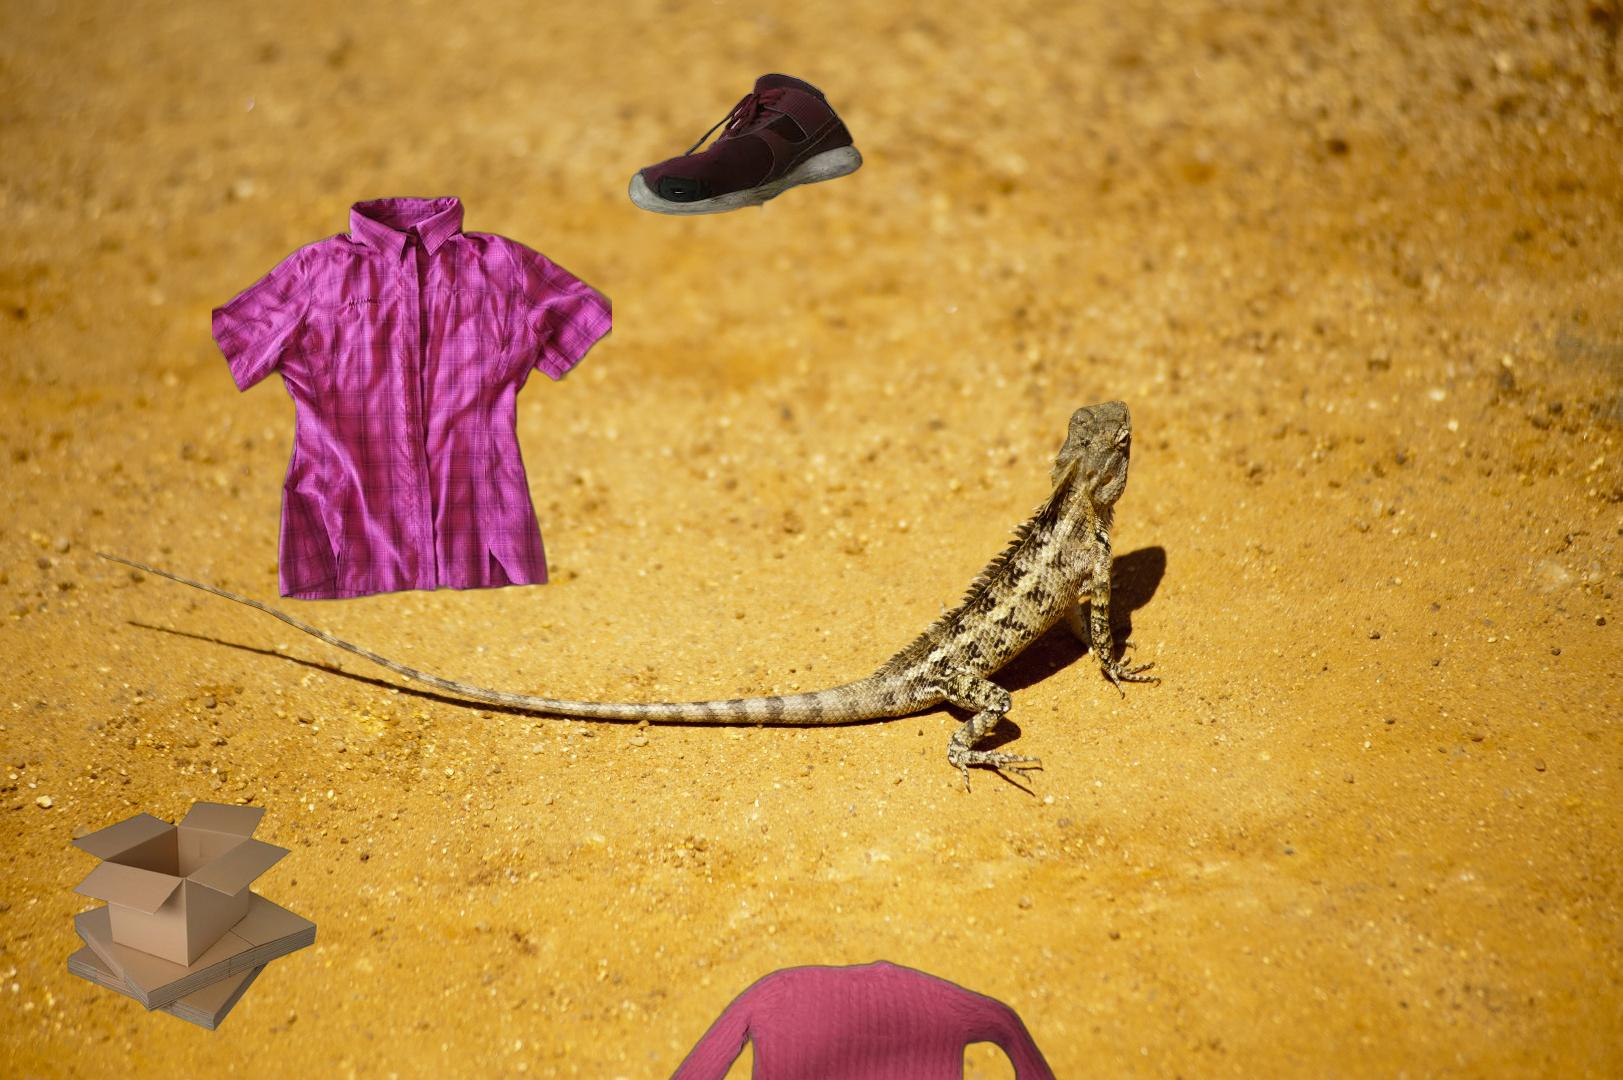clothes: (212, 190, 612, 605), (600, 957, 1109, 1080)
shoes: (627, 70, 864, 221)
trashbox-cardboard: (67, 802, 317, 1034), (1537, 19, 1623, 427)
